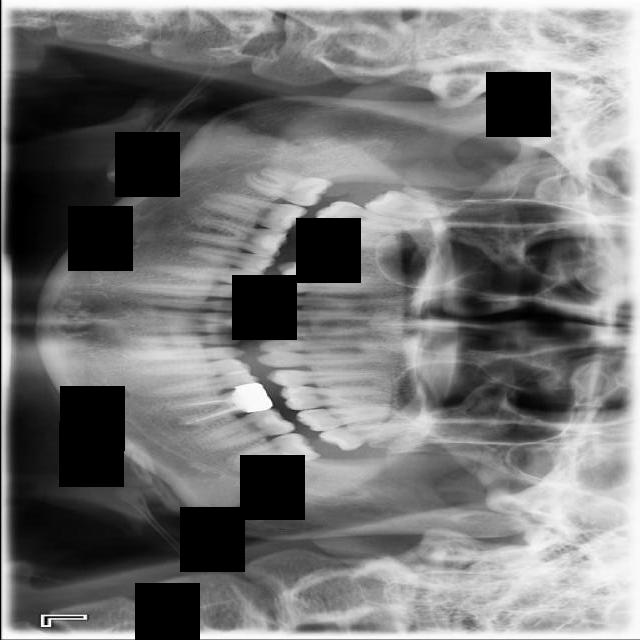3M ESPE Implant: (362, 184, 464, 229)
52: (229, 381, 274, 414), (305, 244, 336, 269)
73: (161, 389, 244, 431)
BioHorizons Implant: (295, 405, 393, 432)
BioLife Implant: (317, 414, 425, 456)
Biomet 3i Implant: (228, 428, 321, 477)
Blue Sky Bio Implant: (191, 403, 297, 456)
Caries: (313, 197, 424, 237)
Implant: (200, 190, 308, 237)
Keystone Dental Implant: (240, 163, 333, 211)
